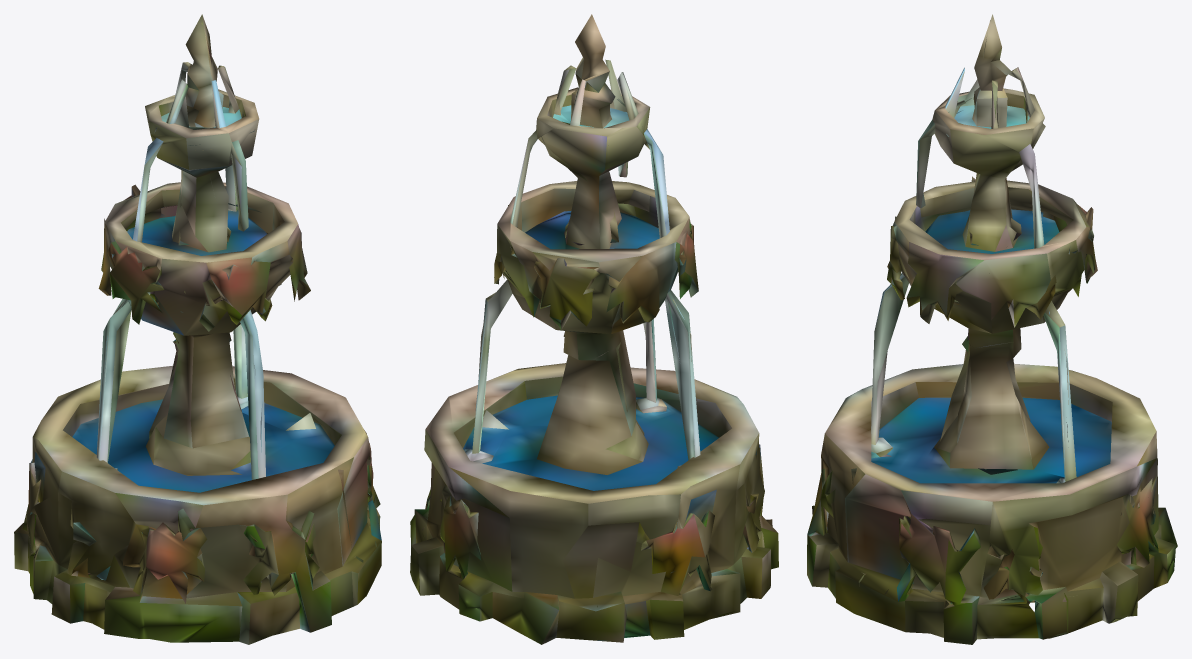
File: fountain.glb
3 views of the same model, side by side, from view 1: azimuth 30°, elevation 25°; view 2: azimuth 150°, elevation 25°; view 3: azimuth 270°, elevation 25° (orthographic).
Bounding box in the file's own units: 0.6014 × 1 × 0.6068.
1 material, 1 textured.
